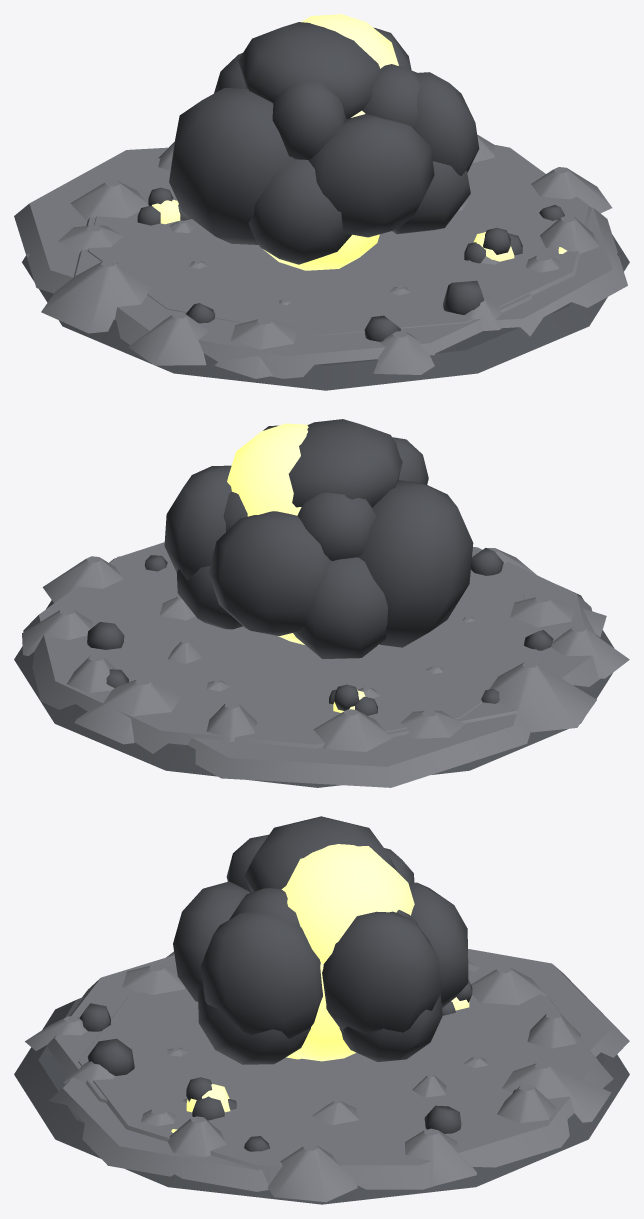
File: node-hearth-coal.glb
3 views of the same model, one above another, from view 1: azimuth 30°, elevation 25°; view 2: azimuth 150°, elevation 25°; view 3: azimuth 270°, elevation 25° (orthographic).
Parts seen in each view (by area): view 1: Mesh_AshPlate_0, Mesh_Crust_3, Mesh_Crust_4, Mesh_SootBase, Mesh_AshPlate_1, Mesh_Crust_0, Mesh_Crust_9, Mesh_AshPlate_3, Mesh_AshPlate_2, Mesh_AshMoundOuter_7, Mesh_Crust_1, Mesh_Crust_12 (+16 smaller); view 2: Mesh_AshPlate_0, Mesh_Crust_3, Mesh_AshPlate_3, Mesh_Crust_5, Mesh_Crust_0, Mesh_Crust_7, Mesh_Crust_2, Mesh_CoreTop, Mesh_AshPlate_1, Mesh_SootBase, Mesh_AshMoundOuter_7, Mesh_Crust_11 (+16 smaller); view 3: Mesh_AshPlate_0, Mesh_Crust_1, Mesh_Crust_2, Mesh_SootBase, Mesh_CoreTop, Mesh_AshPlate_2, Mesh_Crust_0, Mesh_AshPlate_3, Mesh_Crust_4, Mesh_Crust_5, Mesh_Crust_6, Mesh_AshMoundOuter_0 (+20 smaller).
Boxes of the visible parts, bbox=[...] form: Mesh_AshPlate_0: bbox=[87, 144, 591, 336]; Mesh_Crust_3: bbox=[169, 88, 295, 244]; Mesh_Crust_4: bbox=[308, 114, 434, 237]; Mesh_SootBase: bbox=[22, 234, 629, 390]; Mesh_AshPlate_1: bbox=[73, 217, 532, 378]; Mesh_Crust_0: bbox=[238, 22, 380, 118]; Mesh_Crust_9: bbox=[248, 159, 351, 264]; Mesh_AshPlate_3: bbox=[14, 147, 168, 293]; Mesh_AshPlate_2: bbox=[495, 207, 627, 336]; Mesh_AshMoundOuter_7: bbox=[41, 260, 152, 333]; Mesh_Crust_1: bbox=[412, 72, 479, 176]; Mesh_Crust_12: bbox=[272, 80, 346, 159]; Mesh_AshPlate_0: bbox=[23, 548, 539, 753]; Mesh_Crust_3: bbox=[358, 480, 473, 647]; Mesh_AshPlate_3: bbox=[188, 713, 529, 787]; Mesh_Crust_5: bbox=[208, 511, 331, 635]; Mesh_Crust_0: bbox=[288, 419, 402, 507]; Mesh_Crust_7: bbox=[293, 557, 387, 659]; Mesh_Crust_2: bbox=[164, 465, 231, 580]; Mesh_CoreTop: bbox=[227, 423, 308, 516]; Mesh_AshPlate_1: bbox=[387, 547, 599, 736]; Mesh_SootBase: bbox=[14, 585, 614, 787]; Mesh_AshMoundOuter_7: bbox=[489, 661, 596, 732]; Mesh_Crust_11: bbox=[297, 492, 375, 560]; Mesh_AshPlate_0: bbox=[78, 972, 613, 1189]; Mesh_Crust_1: bbox=[200, 911, 322, 1038]; Mesh_Crust_2: bbox=[322, 911, 441, 1033]; Mesh_SootBase: bbox=[14, 996, 629, 1204]; Mesh_CoreTop: bbox=[281, 844, 414, 963]; Mesh_AshPlate_2: bbox=[49, 1077, 268, 1191]; Mesh_Crust_0: bbox=[244, 816, 396, 892]; Mesh_AshPlate_3: bbox=[468, 949, 629, 1057]; Mesh_Crust_4: bbox=[173, 881, 250, 1001]; Mesh_Crust_5: bbox=[408, 882, 468, 1007]; Mesh_Crust_6: bbox=[198, 984, 310, 1064]; Mesh_AshMoundOuter_0: bbox=[267, 1144, 357, 1202].
Bounding box in the file's own units: 0.7875 × 0.3253 × 0.76.
